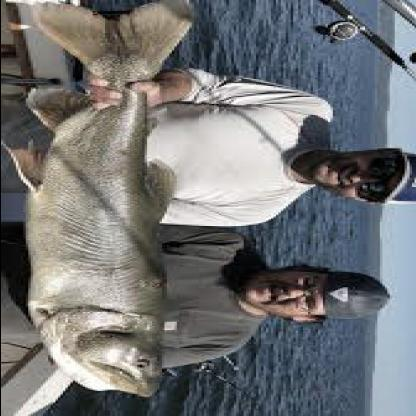fish: (14, 0, 202, 398)
